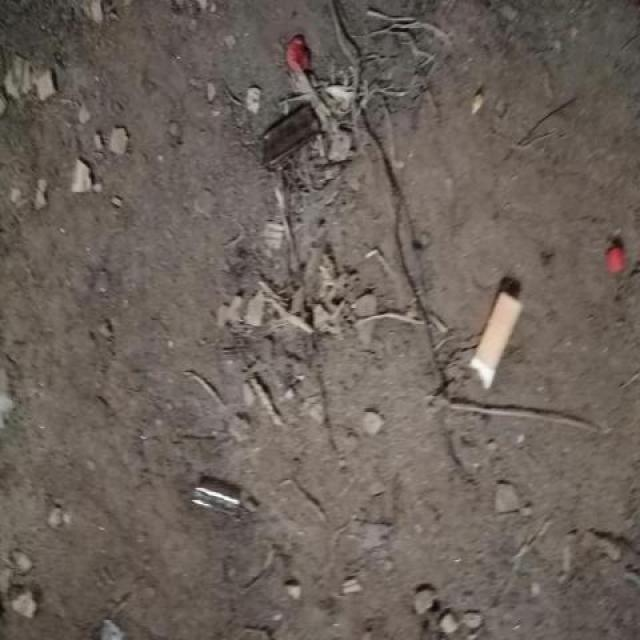non-organic waste: (468, 285, 527, 395)
